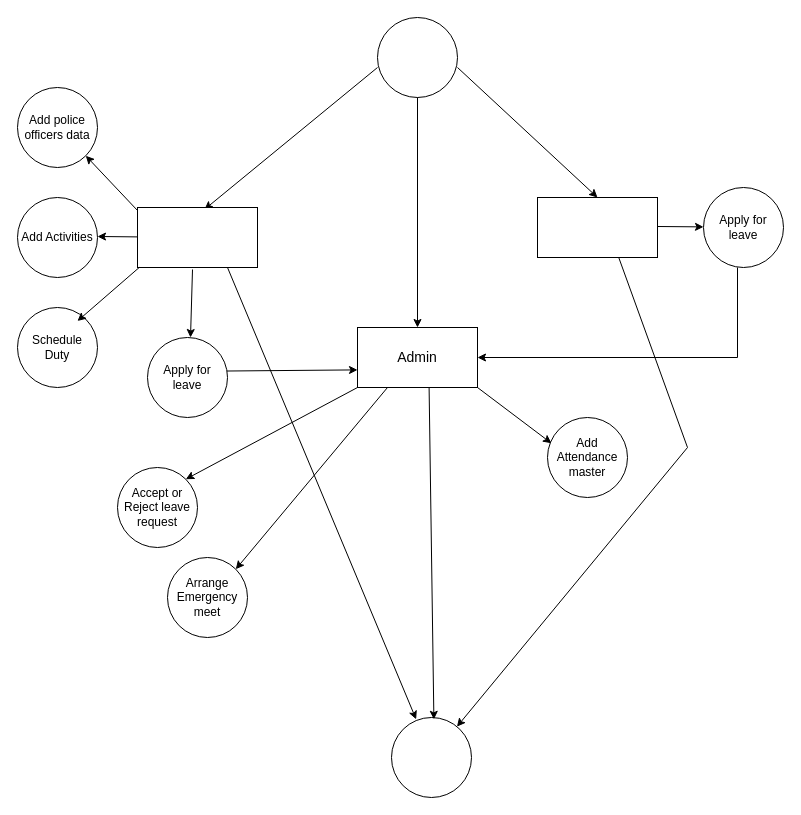
The diagram is 801 pixels wide and 815 high, and some of its shapes have lost their labels. The centre of each missing label's shape, as x and y in pixels:
Attendance master: [197,237]
Login process: [417,57]
Policemen: [597,227]
View Duty Report: [431,757]
